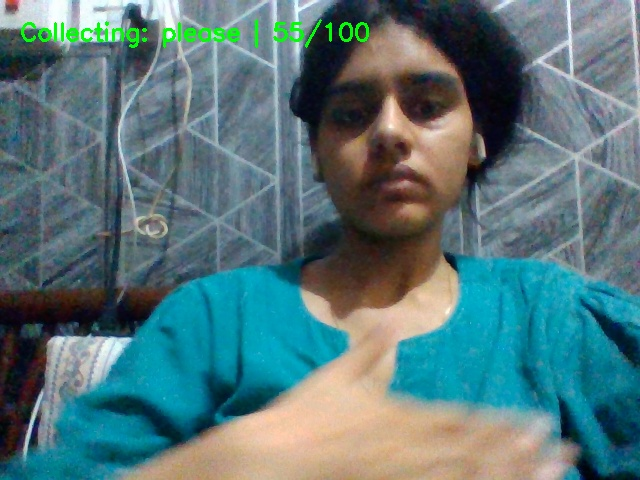please: (232, 322, 640, 480)
